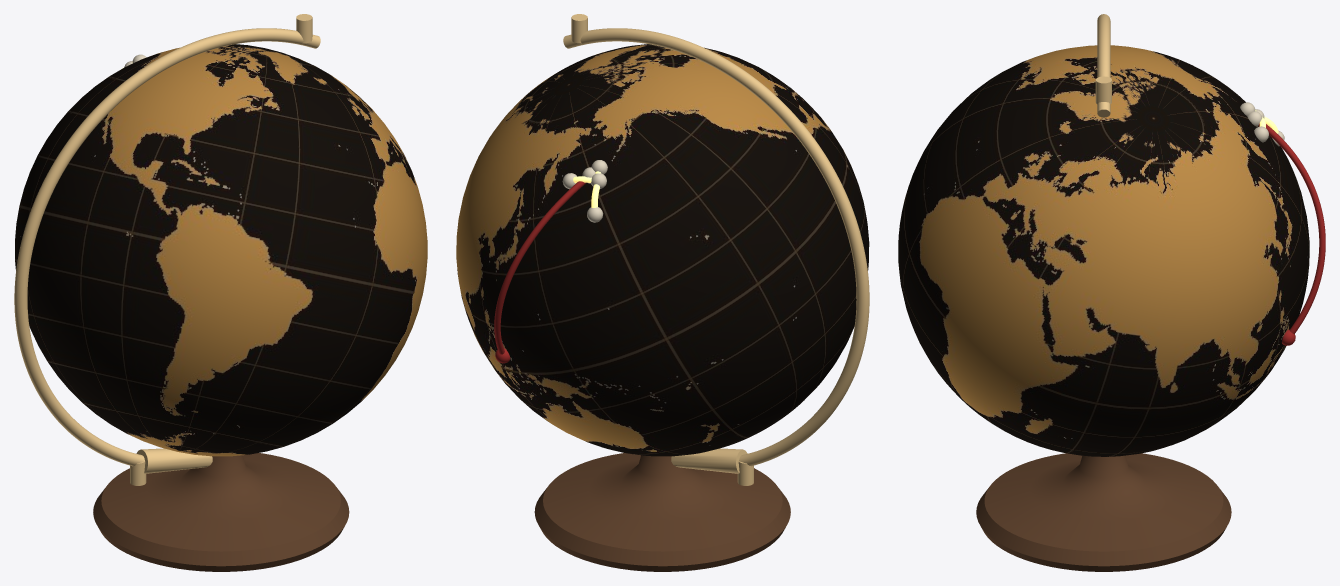
File: globe.glb
The picture shows the model from 3 angles, left to right: view 1: azimuth 30°, elevation 25°; view 2: azimuth 150°, elevation 25°; view 3: azimuth 270°, elevation 25°; orthographic projection.
Parts seen in each view (by area): view 1: earth, stand, meridian, post; view 2: earth, stand, meridian, arc.004, post; view 3: earth, stand, arc.004, meridian.
Part boxes in pixels (left/top/right/bottom): earth: left=15, top=44, right=427, bottom=456; stand: left=93, top=453, right=349, bottom=571; meridian: left=14, top=28, right=320, bottom=466; post: left=136, top=448, right=212, bottom=473; earth: left=456, top=44, right=869, bottom=456; stand: left=534, top=453, right=790, bottom=571; meridian: left=563, top=28, right=869, bottom=466; arc.004: left=494, top=181, right=586, bottom=354; post: left=671, top=448, right=747, bottom=473; earth: left=898, top=45, right=1309, bottom=456; stand: left=976, top=453, right=1231, bottom=571; arc.004: left=1258, top=123, right=1325, bottom=333; meridian: left=1097, top=14, right=1110, bottom=117.
Size of the model in its own units: 1.08 by 1.3 by 1.04.
Materials: 6 (1 with a texture image).
